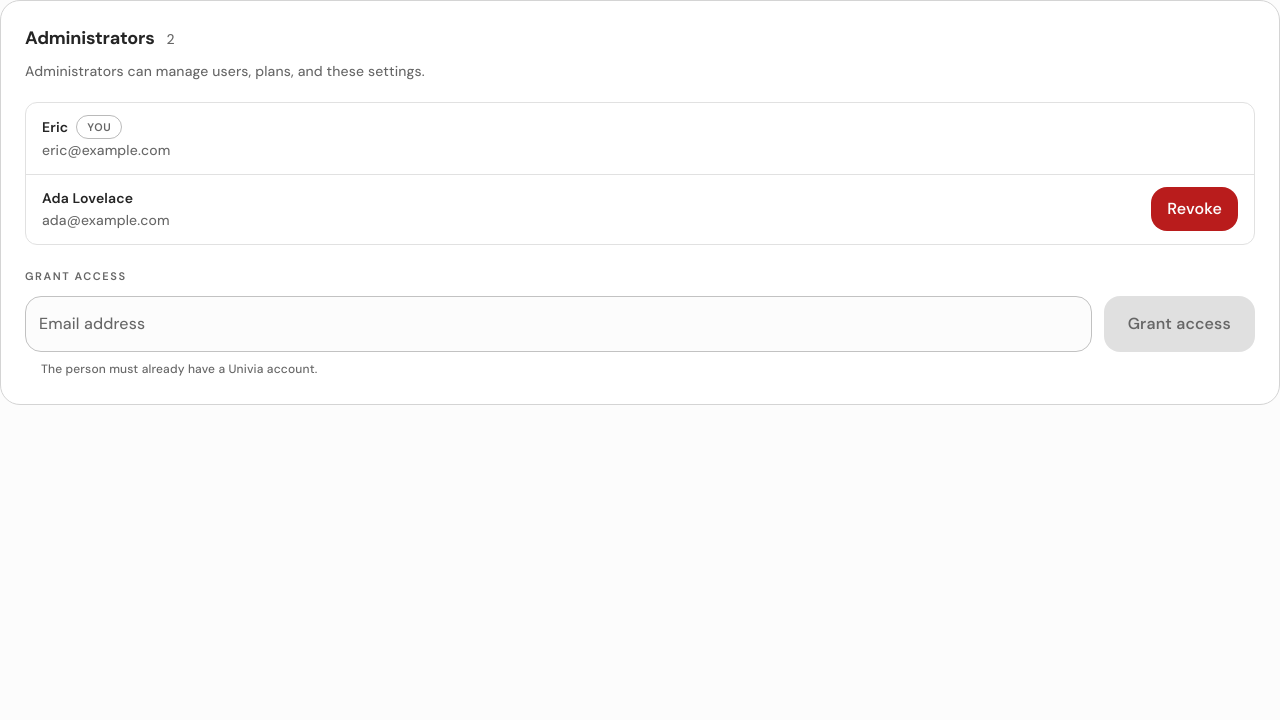
Test: AdminAccessCard › confirms before revoking
This screenshot has width=1280, height=720.
Click the button with aria-label "Revoke admin access for ada@example.com" at x=1195, y=209, box x1=1151 y1=187 x2=1238 y2=231
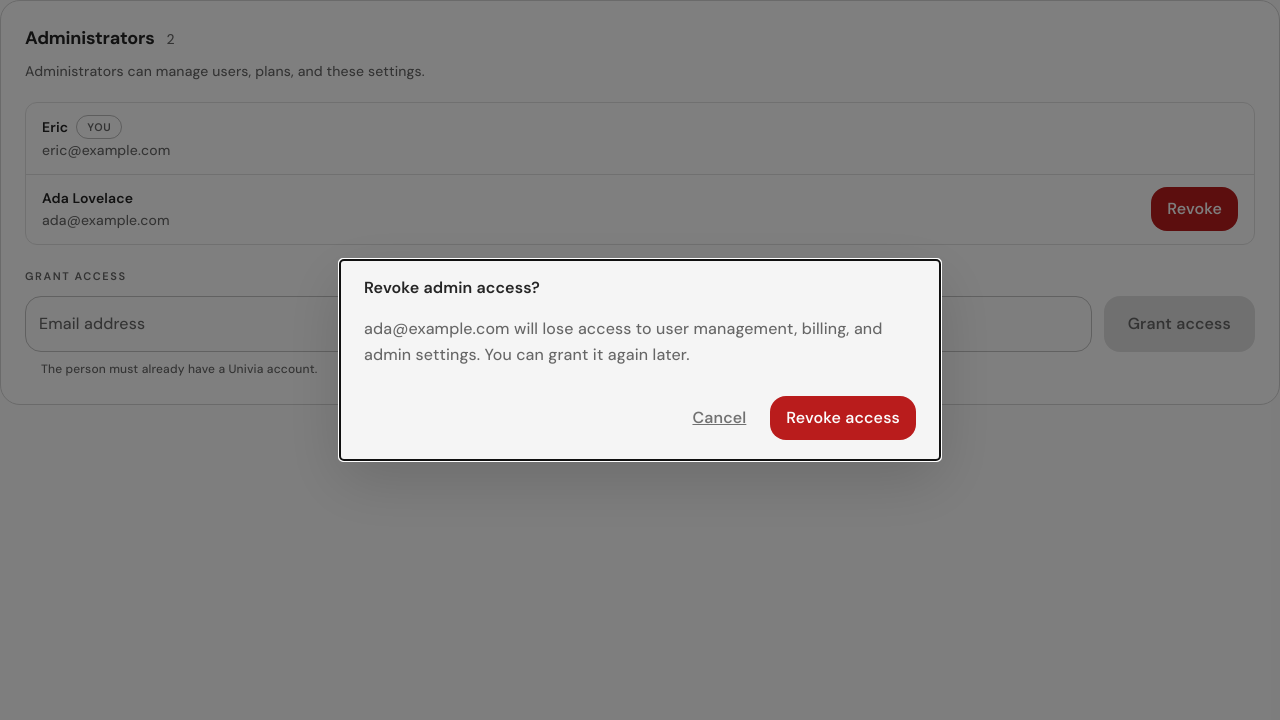
Click the button "Revoke access" at x=843, y=418, box x1=770 y1=396 x2=916 y2=440
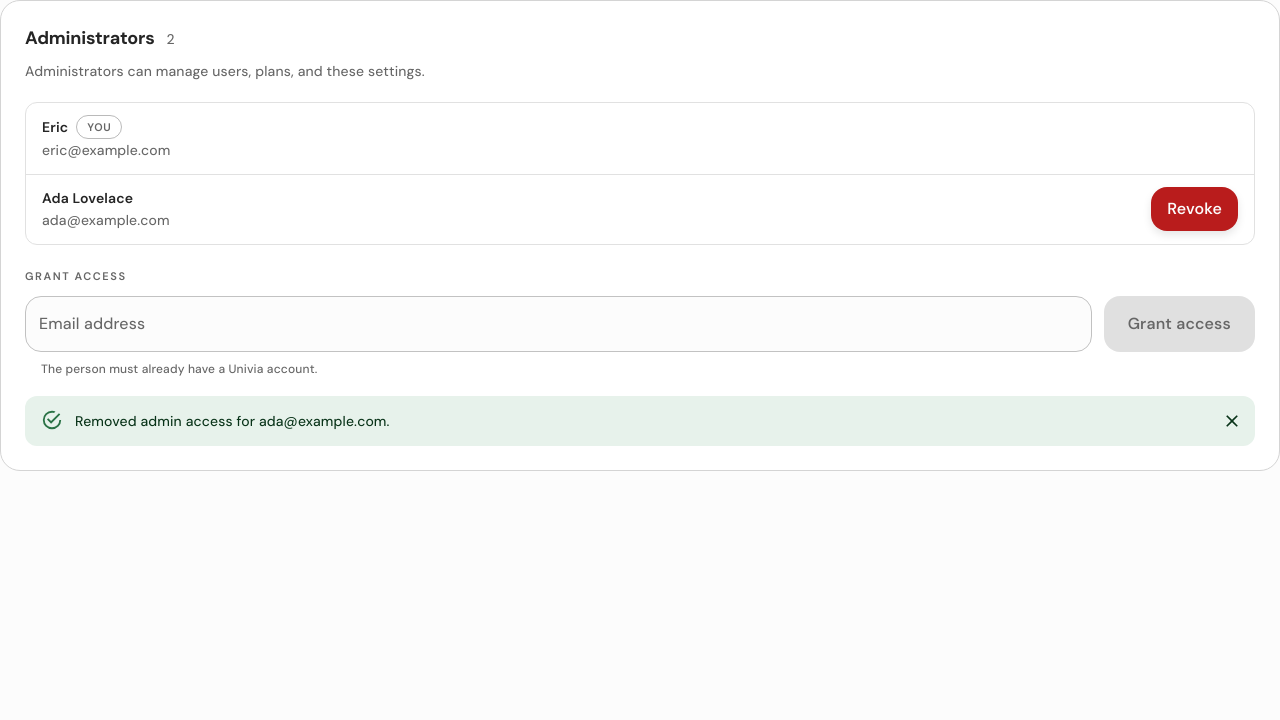
expect the text "Removed admin access for ada@example.com." is shown: met, box x1=75 y1=412 x2=390 y2=430
